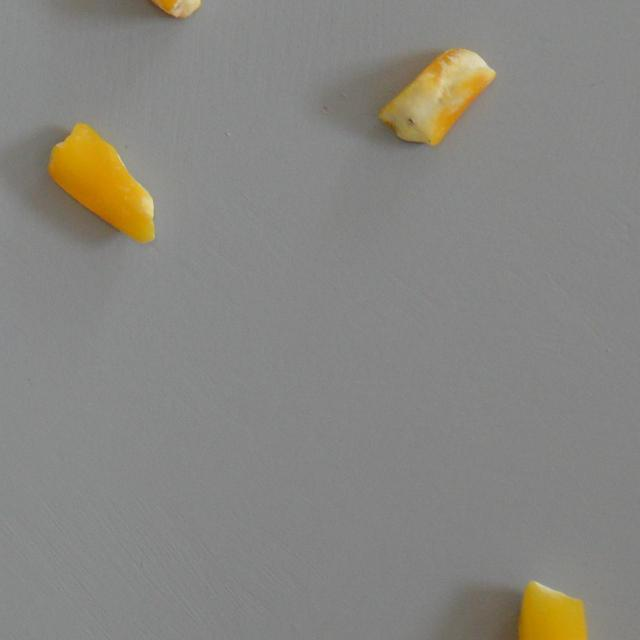estandar: (45, 122, 158, 244), (515, 579, 587, 639)
pelicula: (133, 0, 206, 20)
punto_negro: (376, 46, 496, 148)
